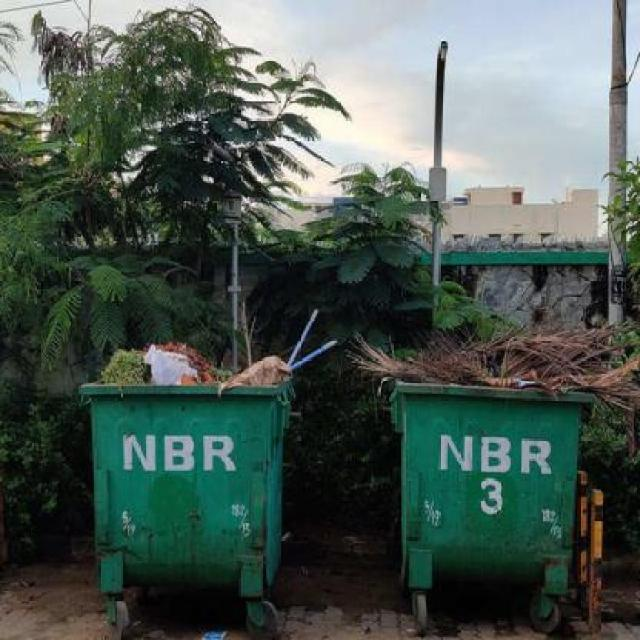garbage: (352, 319, 640, 420), (91, 337, 340, 403)
